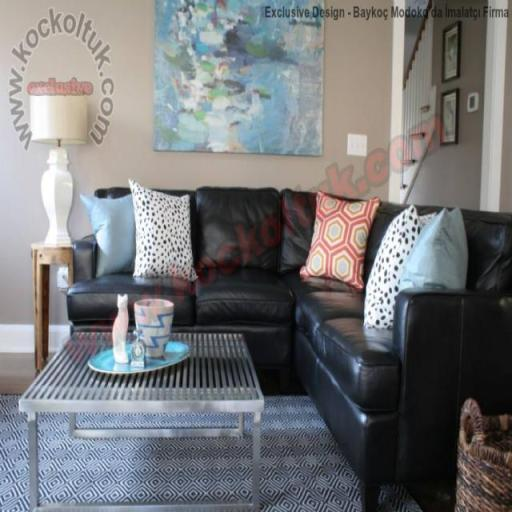sofa: (56, 162, 512, 500)
